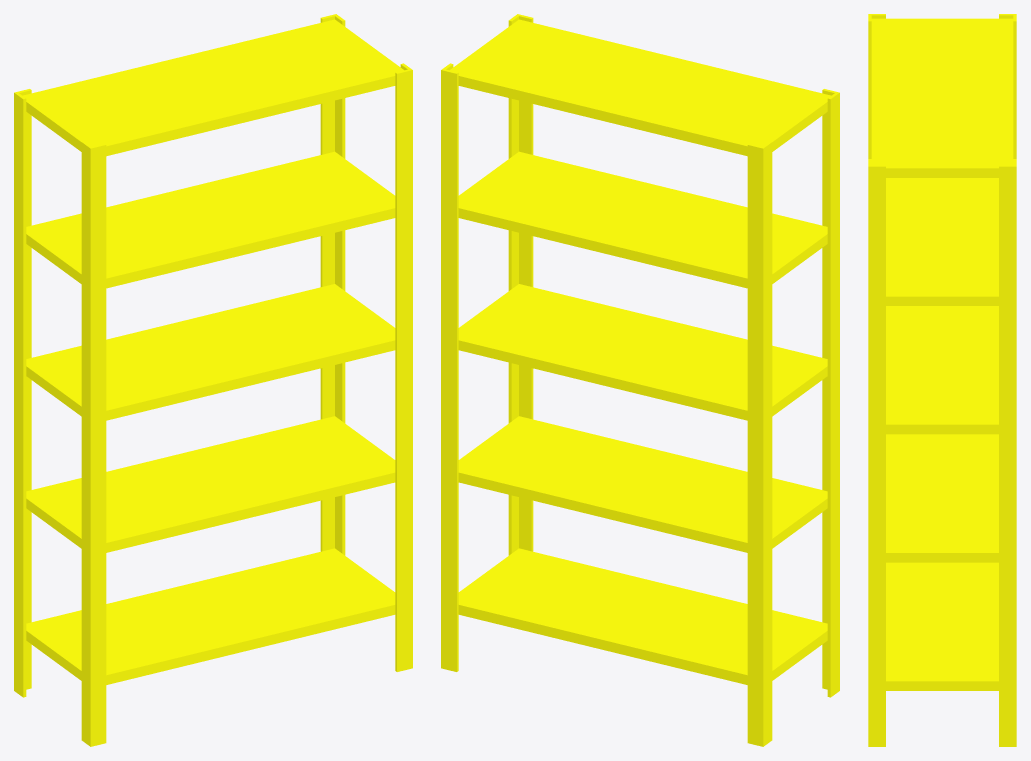
The model's file is shelf_mx_5.glb.
The picture shows the model from 3 angles, left to right: view 1: azimuth 30°, elevation 25°; view 2: azimuth 150°, elevation 25°; view 3: azimuth 270°, elevation 25°; orthographic projection. The views are drawn at different scales.
Parts seen in each view (by area): view 1: shelf_mx_5; view 2: shelf_mx_5; view 3: shelf_mx_5.
Part boxes in pixels (box(x1,y1,x2,y2)): shelf_mx_5: box(14, 14, 412, 746); shelf_mx_5: box(441, 14, 839, 746); shelf_mx_5: box(868, 14, 1016, 746).
Size of the model in its own units: 1.02 by 1.81 by 0.42.
1 material, 1 textured.
